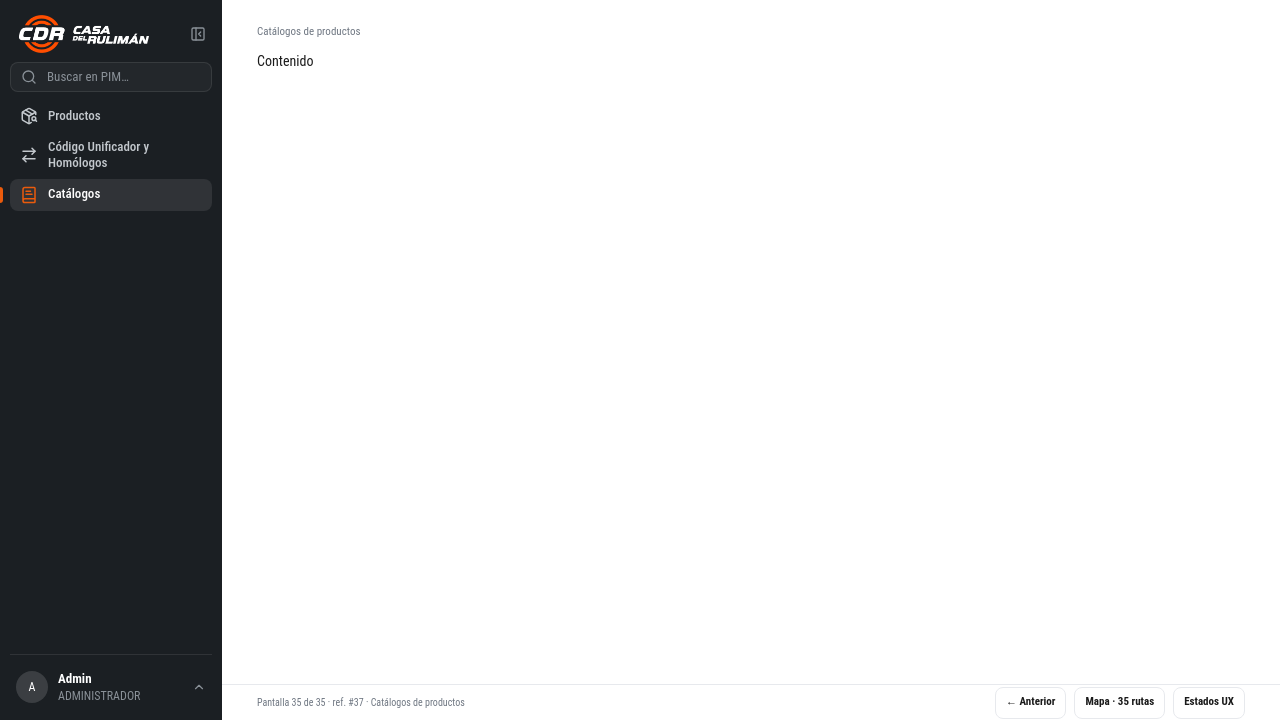
Test: AppShell navigation › integrates the authorized catalogs workspace in the sidebar, map and reference pager
Expected: the text "Pantalla 35 de 35 · ref. #37 · Catálogos de productos" is shown, [257,695,465,710]
Expected: the button "Mapa · 35 rutas" is shown, [1074,686,1165,718]
What coordinates should you click on to do the following:
click the button with aria-label "Cuenta de Admin"
I would click on:
 (111, 687)
Its box is [10,665,212,710].
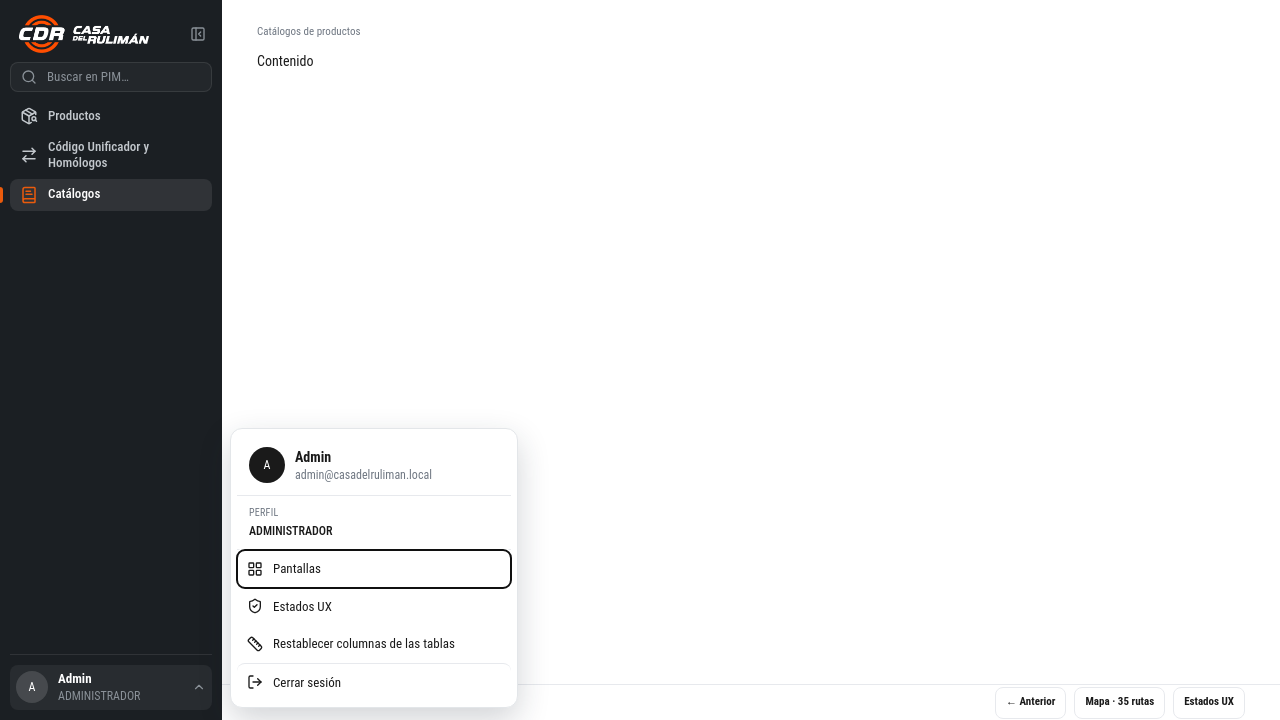
What coordinates should you click on to do the following:
click the button "Pantallas"
I would click on:
 (297, 568)
Its box is [237,550,511,588].
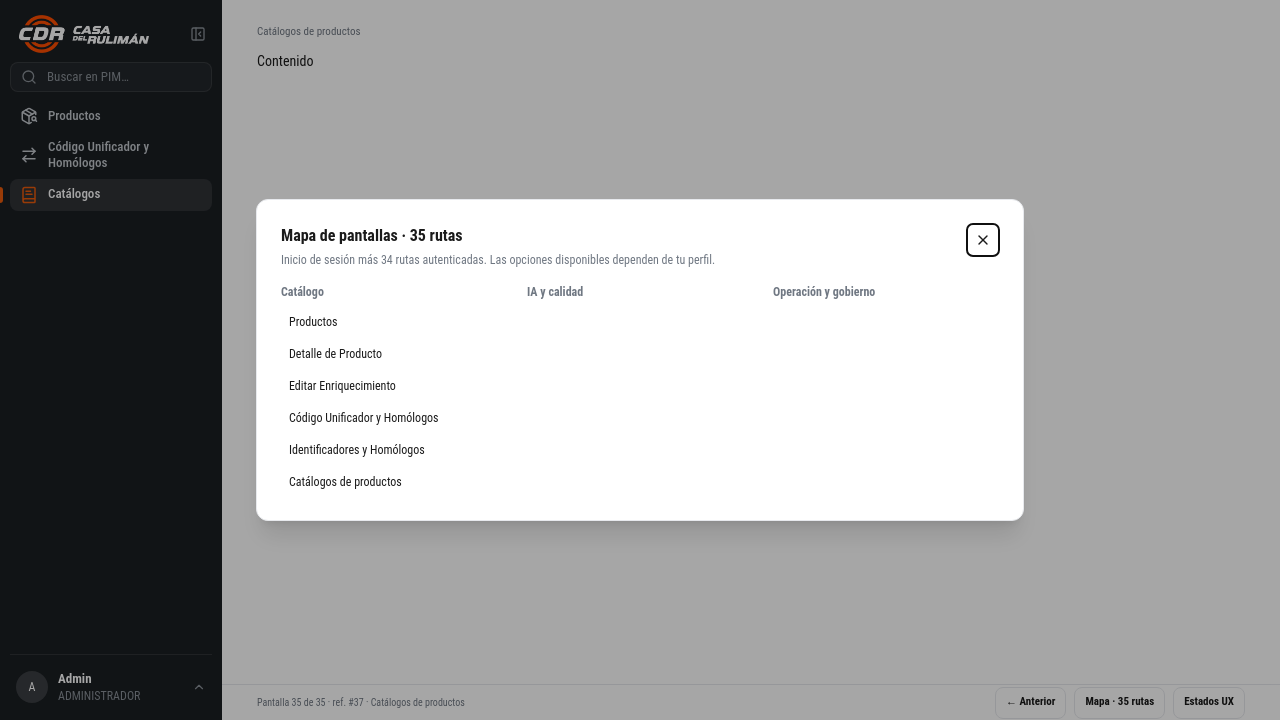
Expected: the heading "Mapa de pantallas · 35 rutas" is shown, [281,226,462,245]
Expected: the text "Inicio de sesión más 34 rutas autenticadas" is shown, [281,252,715,268]
